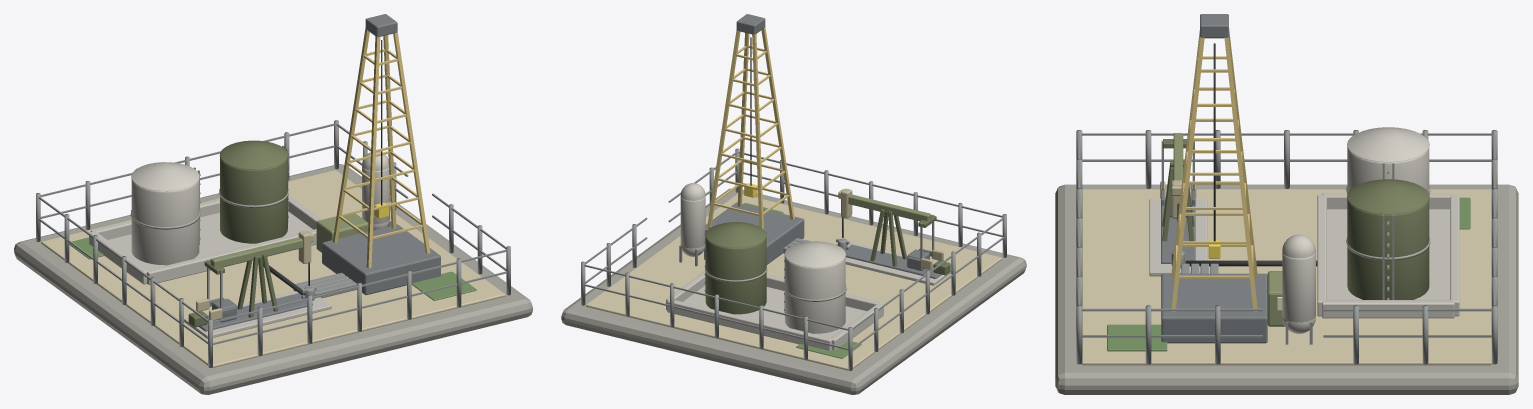
The model's file is oilwell_5.glb.
3 renders of one model, left to right at view 1: azimuth 30°, elevation 25°; view 2: azimuth 150°, elevation 25°; view 3: azimuth 270°, elevation 25°, orthographic. The views are drawn at different scales.
Visible parts, largest first — view 1: Cube.001, Cube, Cube.053, Cylinder.002, Cylinder.004, Cube.024, Cone.001, Cone, Cube.026, Cube.004, Cube.054, Cube.056 (+16 smaller); view 2: Cube.001, Cube, Cylinder.004, Cylinder.002, Cube.053, Cube.025, Cube.024, Cone, Cone.001, Cylinder.007, Cube.055, Cube.005 (+14 smaller); view 3: Cube.001, Cube, Cylinder.004, Cube.053, Cube.024, Cone, Cone.001, Cylinder.007, Cube.027, Cylinder.002, Cube.004, Cube.056 (+26 smaller).
Boxes of the visible parts, x1=… form: Cube.001: x1=41, y1=170, x2=505, y2=368; Cube: x1=14, y1=164, x2=532, y2=394; Cube.053: x1=322, y1=224, x2=440, y2=295; Cylinder.002: x1=131, y1=179, x2=199, y2=265; Cylinder.004: x1=220, y1=157, x2=287, y2=243; Cube.024: x1=108, y1=211, x2=312, y2=269; Cone.001: x1=219, y1=140, x2=288, y2=169; Cone: x1=131, y1=162, x2=199, y2=191; Cube.026: x1=147, y1=229, x2=316, y2=285; Cube.004: x1=184, y1=291, x2=331, y2=338; Cube.054: x1=366, y1=36, x2=380, y2=268; Cube.056: x1=393, y1=32, x2=430, y2=253; Cube.001: x1=586, y1=193, x2=1001, y2=370; Cube: x1=561, y1=188, x2=1026, y2=394; Cylinder.004: x1=705, y1=237, x2=766, y2=314; Cylinder.002: x1=785, y1=257, x2=845, y2=333; Cube.053: x1=705, y1=202, x2=804, y2=264; Cube.025: x1=667, y1=300, x2=831, y2=350; Cube.024: x1=683, y1=286, x2=866, y2=337; Cone: x1=784, y1=241, x2=845, y2=267; Cone.001: x1=705, y1=222, x2=766, y2=247; Cylinder.007: x1=680, y1=196, x2=705, y2=248; Cube.055: x1=752, y1=34, x2=763, y2=229; Cube.005: x1=844, y1=244, x2=941, y2=278; Cube.001: x1=1082, y1=189, x2=1491, y2=365; Cube: x1=1055, y1=184, x2=1518, y2=394; Cylinder.004: x1=1347, y1=199, x2=1429, y2=299; Cube.053: x1=1161, y1=273, x2=1267, y2=343; Cube.024: x1=1327, y1=209, x2=1449, y2=299; Cone: x1=1347, y1=127, x2=1429, y2=162; Cone.001: x1=1347, y1=179, x2=1429, y2=214; Cylinder.007: x1=1282, y1=253, x2=1315, y2=322; Cube.027: x1=1322, y1=300, x2=1454, y2=318; Cylinder.002: x1=1347, y1=147, x2=1429, y2=191; Cube.004: x1=1149, y1=199, x2=1207, y2=276; Cube.056: x1=1171, y1=37, x2=1204, y2=312.
Size of the model in its own units: 1.92 by 1.5 by 1.92.
